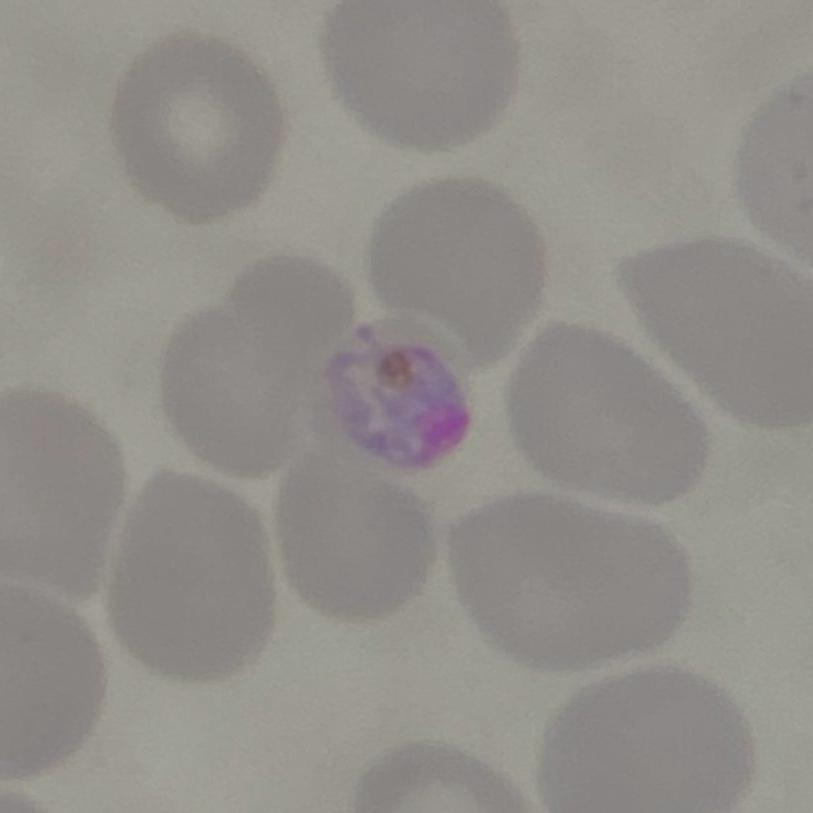Infected: (318, 314, 476, 476)
Uninfected: (443, 497, 693, 672), (507, 321, 708, 512), (613, 241, 813, 430), (103, 471, 279, 684), (370, 179, 551, 374), (110, 29, 288, 221), (539, 666, 759, 813), (321, 1, 519, 152), (0, 381, 127, 601), (160, 307, 306, 481), (277, 466, 431, 625), (230, 259, 352, 362)
